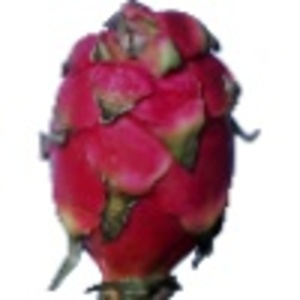pitaia: (39, 1, 261, 300)
